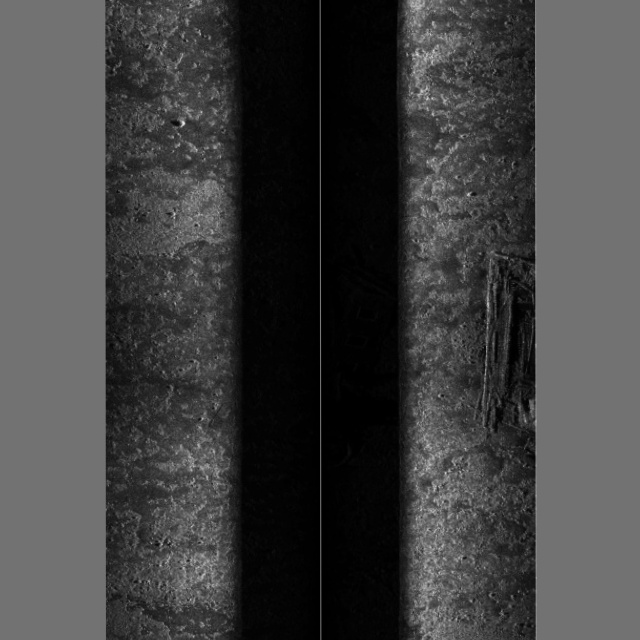Shipwreck: (207, 244, 535, 468)
